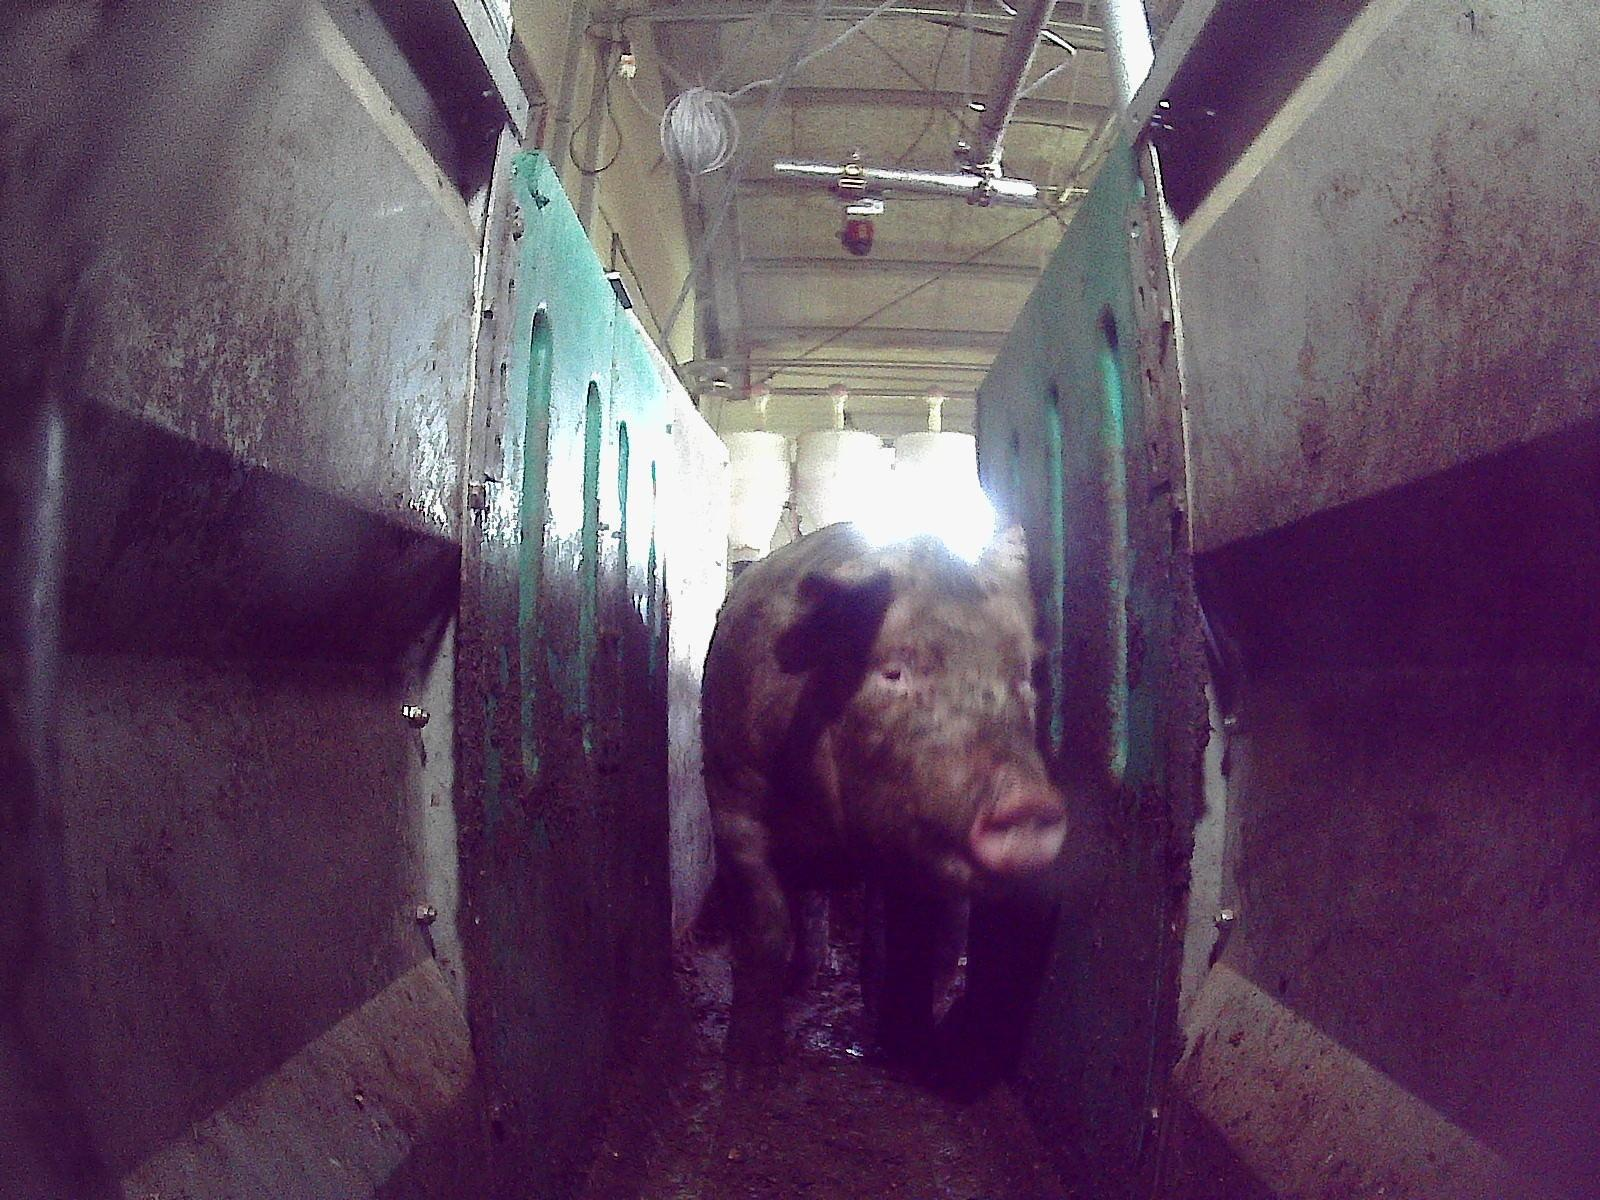Face: (822, 581, 1067, 893)
